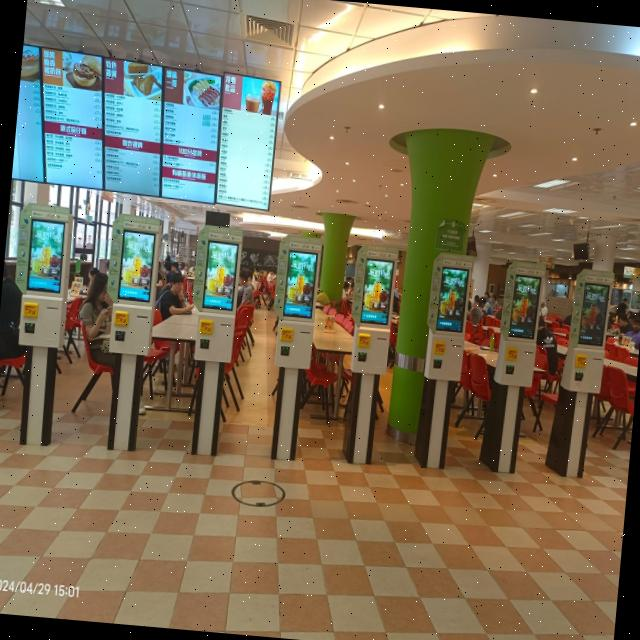orderKiosk: (10, 204, 74, 352), (102, 214, 161, 356), (188, 233, 244, 363), (347, 242, 398, 377), (562, 266, 612, 396), (272, 242, 321, 368), (424, 258, 471, 380), (496, 267, 542, 388)
